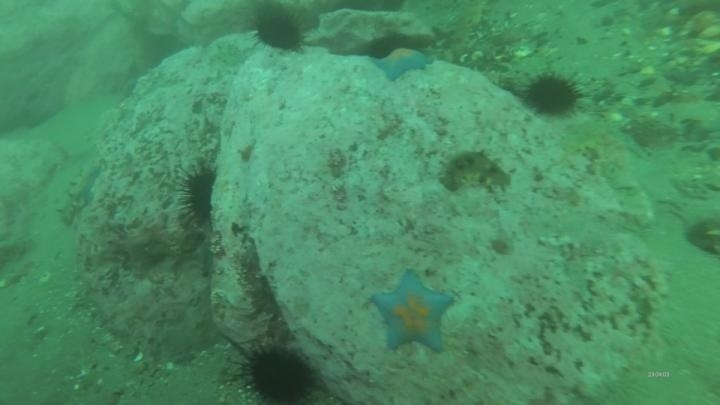echinus: (235, 340, 321, 404), (523, 70, 584, 119), (177, 163, 220, 226), (250, 10, 308, 55)
holothurian: (558, 117, 635, 188), (438, 147, 514, 196), (53, 165, 101, 229), (1, 204, 32, 262)
starfish: (369, 270, 456, 355), (372, 46, 431, 83), (80, 168, 102, 206)
